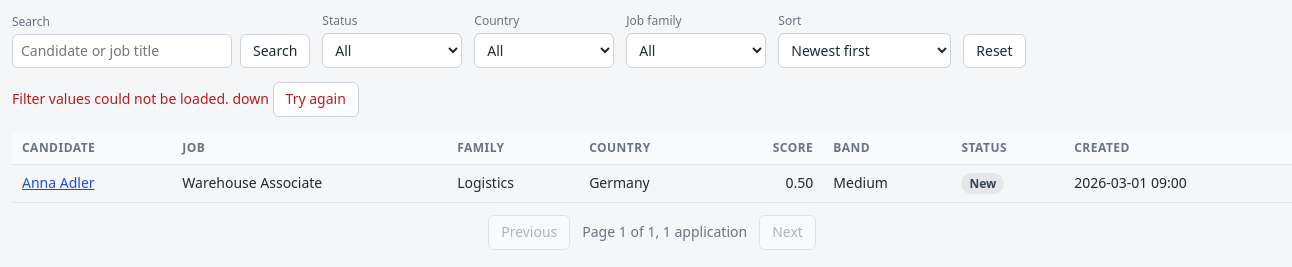
it: retries the filter options together with the list
expect the message "Filter values could not be loaded. down Try again" is shown: met, box [12, 82, 359, 117]
Click the button "Try again".
click(316, 100)  # box [273, 82, 359, 117]
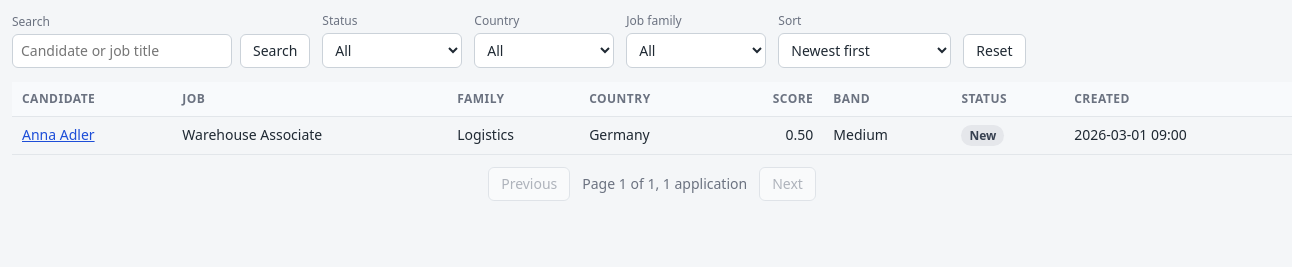
expect the message "Filter values could not be loaded. down Try again" is gone: met
